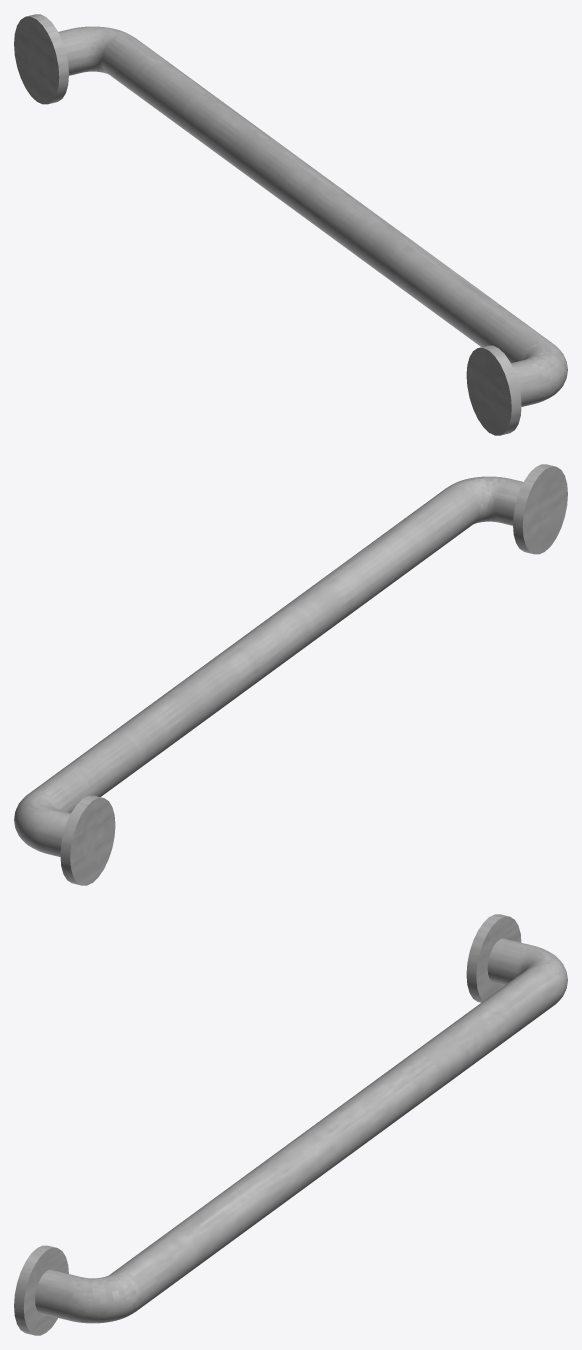
File: BarraApoioBanheiro.fbx
The picture shows the model from 3 angles, top to bottom: view 1: azimuth 30°, elevation 25°; view 2: azimuth 150°, elevation 25°; view 3: azimuth 330°, elevation 25°; orthographic projection.
Parts seen in each view (by area): view 1: group_ 2.012, group_.029; view 2: group_ 2.012, group_.029; view 3: group_ 2.012, group_.029.
Boxes of the visible parts, box(x1,y1,x2,y2) form: group_ 2.012: box(58, 26, 567, 406); group_.029: box(14, 14, 521, 435); group_ 2.012: box(14, 476, 523, 856); group_.029: box(60, 464, 567, 885); group_ 2.012: box(35, 938, 567, 1323); group_.029: box(14, 914, 521, 1335).
Bounding box in the file's own units: 0.09 × 0.08 × 0.88.
Materials: 2 (1 with a texture image).
